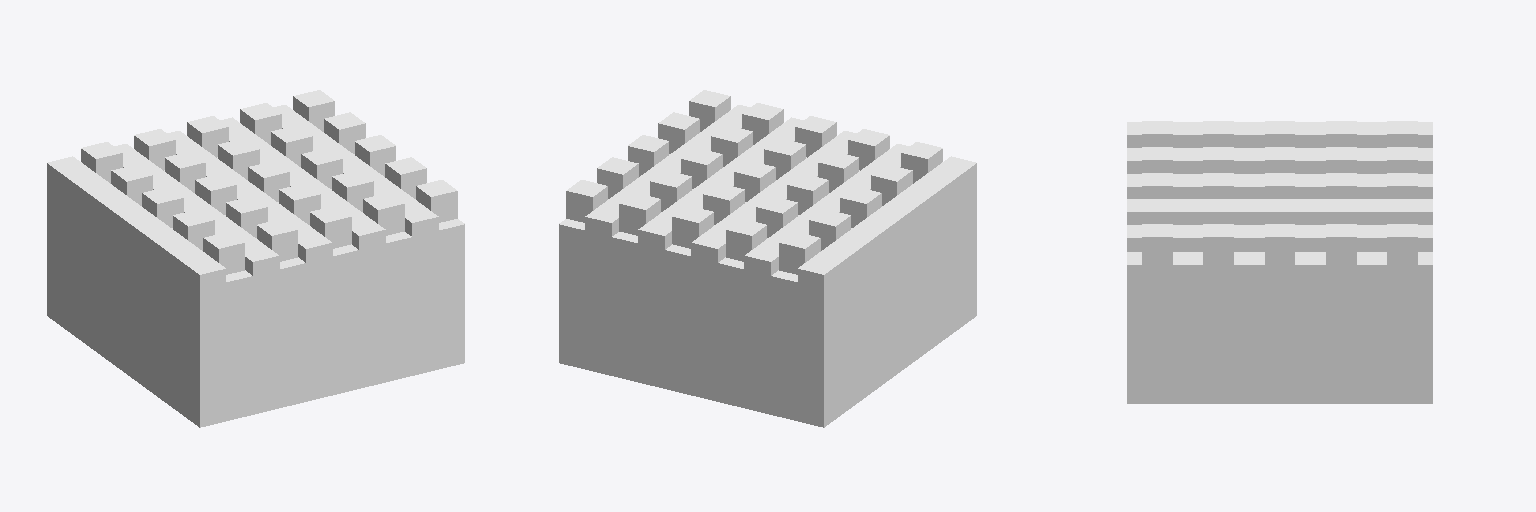
Rendered from Lettuce_Level_2.obj.
3 views of the same model, side by side, from view 1: azimuth 30°, elevation 25°; view 2: azimuth 150°, elevation 25°; view 3: azimuth 270°, elevation 25° (orthographic).
Visible parts, largest first — view 1: Lettuce_Level_2; view 2: Lettuce_Level_2; view 3: Lettuce_Level_2.
Part boxes in pixels (bbox=[...]): Lettuce_Level_2: bbox=[47, 90, 464, 427]; Lettuce_Level_2: bbox=[559, 90, 976, 427]; Lettuce_Level_2: bbox=[1127, 121, 1432, 403].
Bounding box in the file's own units: 20 × 12 × 20.